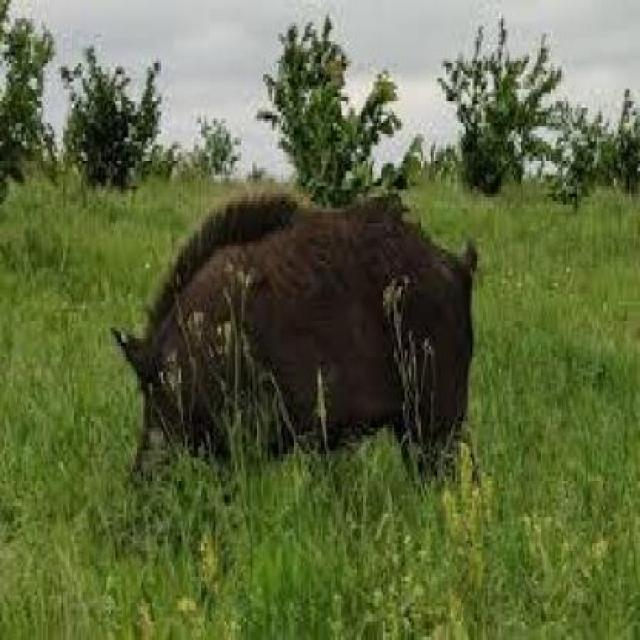wildboar: (109, 182, 482, 496)
